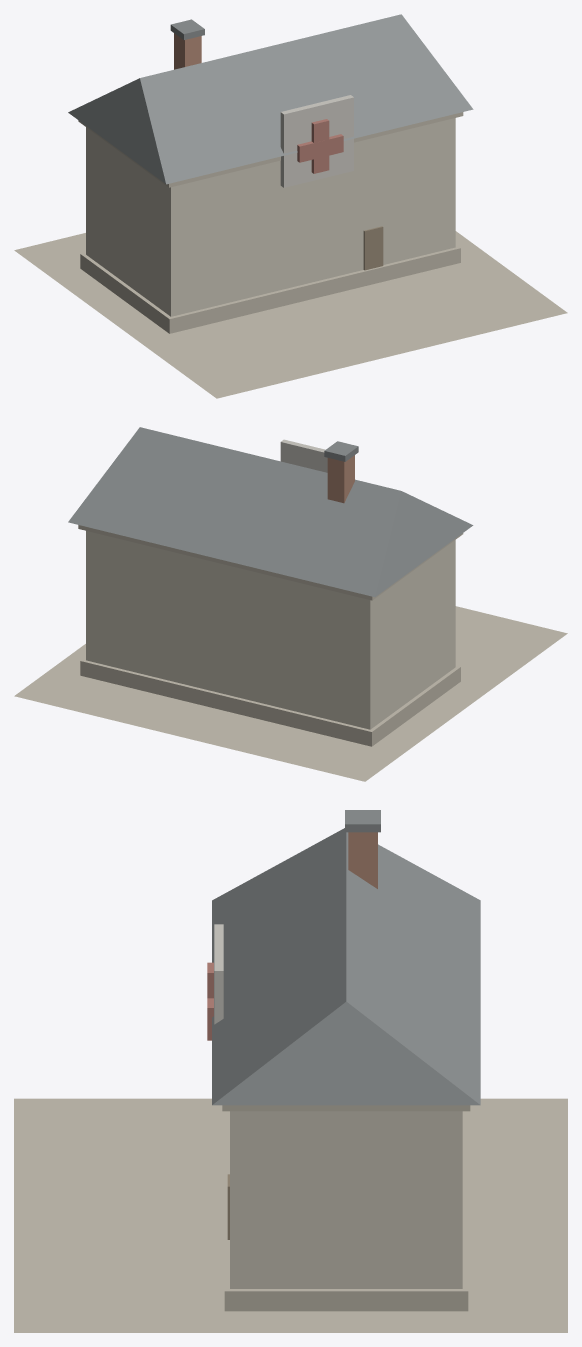
3 renders of one model, top to bottom at view 1: azimuth 30°, elevation 25°; view 2: azimuth 150°, elevation 25°; view 3: azimuth 270°, elevation 25°, orthographic. The views are drawn at different scales.
Parts seen in each view (by area): view 1: Near; view 2: Near; view 3: Near.
Boxes of the visible parts, bbox=[...] form: Near: bbox=[14, 14, 567, 398]; Near: bbox=[14, 427, 567, 781]; Near: bbox=[14, 810, 567, 1332].
Bounding box in the file's own units: 2 × 1.38 × 2.
